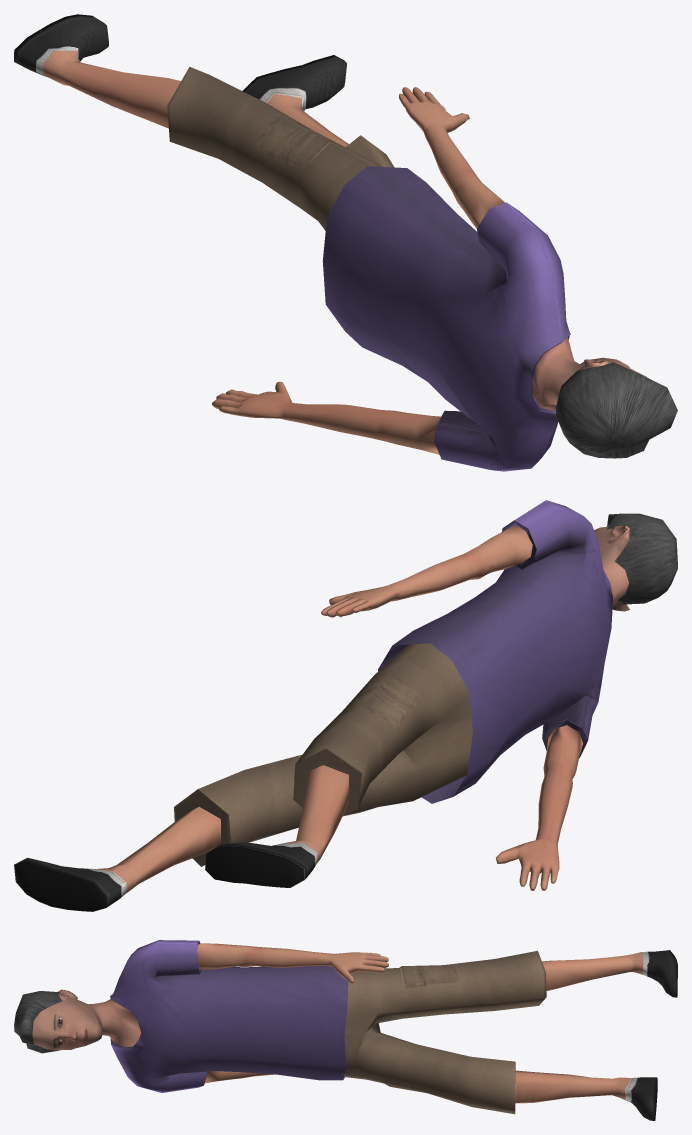
The model's file is walk.obj.
The picture shows the model from 3 angles, top to bottom: view 1: azimuth 30°, elevation 25°; view 2: azimuth 150°, elevation 25°; view 3: azimuth 270°, elevation 25°; orthographic projection. The views are drawn at different scales.
Size of the model in its own units: 0.7079 by 0.5016 by 1.76.
1 material, 1 textured.
